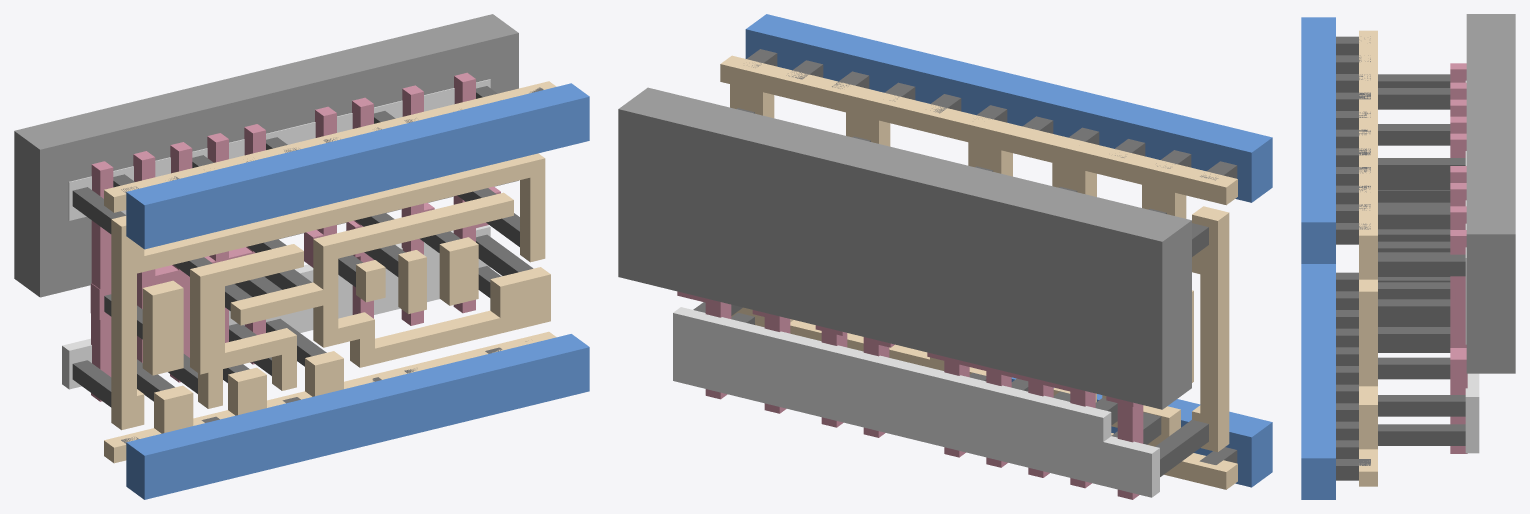
File: sky130_fd_sc_hd__and4b_4.gds.gltf
3 views of the same model, side by side, from view 1: azimuth 30°, elevation 25°; view 2: azimuth 150°, elevation 25°; view 3: azimuth 270°, elevation 25° (orthographic). The views are drawn at different scales.
Visible parts, largest first — view 1: sky130_fd_sc_hd__and4b_4_li1, sky130_fd_sc_hd__and4b_4_met1, sky130_fd_sc_hd__and4b_4_nwell, sky130_fd_sc_hd__and4b_4_poly, sky130_fd_sc_hd__and4b_4_licon, sky130_fd_sc_hd__and4b_4_diff; view 2: sky130_fd_sc_hd__and4b_4_nwell, sky130_fd_sc_hd__and4b_4_diff, sky130_fd_sc_hd__and4b_4_li1, sky130_fd_sc_hd__and4b_4_met1, sky130_fd_sc_hd__and4b_4_poly, sky130_fd_sc_hd__and4b_4_mcon, sky130_fd_sc_hd__and4b_4_licon; view 3: sky130_fd_sc_hd__and4b_4_licon, sky130_fd_sc_hd__and4b_4_nwell, sky130_fd_sc_hd__and4b_4_met1, sky130_fd_sc_hd__and4b_4_mcon, sky130_fd_sc_hd__and4b_4_li1, sky130_fd_sc_hd__and4b_4_poly, sky130_fd_sc_hd__and4b_4_diff.
Boxes of the visible parts, box(x1,y1,x2,y2) form: sky130_fd_sc_hd__and4b_4_li1: box(104, 81, 556, 463); sky130_fd_sc_hd__and4b_4_met1: box(126, 83, 589, 499); sky130_fd_sc_hd__and4b_4_nwell: box(14, 14, 518, 297); sky130_fd_sc_hd__and4b_4_poly: box(90, 72, 500, 401); sky130_fd_sc_hd__and4b_4_licon: box(72, 86, 533, 407); sky130_fd_sc_hd__and4b_4_diff: box(62, 79, 490, 389); sky130_fd_sc_hd__and4b_4_nwell: box(618, 87, 1191, 409); sky130_fd_sc_hd__and4b_4_diff: box(673, 307, 1159, 497); sky130_fd_sc_hd__and4b_4_li1: box(720, 55, 1237, 489); sky130_fd_sc_hd__and4b_4_met1: box(745, 14, 1272, 487); sky130_fd_sc_hd__and4b_4_poly: box(677, 291, 1143, 499); sky130_fd_sc_hd__and4b_4_mcon: box(747, 49, 1237, 464); sky130_fd_sc_hd__and4b_4_licon: box(693, 108, 1208, 476); sky130_fd_sc_hd__and4b_4_licon: box(1378, 74, 1465, 445); sky130_fd_sc_hd__and4b_4_nwell: box(1466, 14, 1515, 373); sky130_fd_sc_hd__and4b_4_met1: box(1301, 17, 1335, 499); sky130_fd_sc_hd__and4b_4_mcon: box(1336, 36, 1370, 480); sky130_fd_sc_hd__and4b_4_li1: box(1359, 30, 1377, 486); sky130_fd_sc_hd__and4b_4_poly: box(1450, 63, 1467, 453); sky130_fd_sc_hd__and4b_4_diff: box(1465, 80, 1479, 453).
Size of the model in its own units: 5.44 by 3.2 by 2.24.
